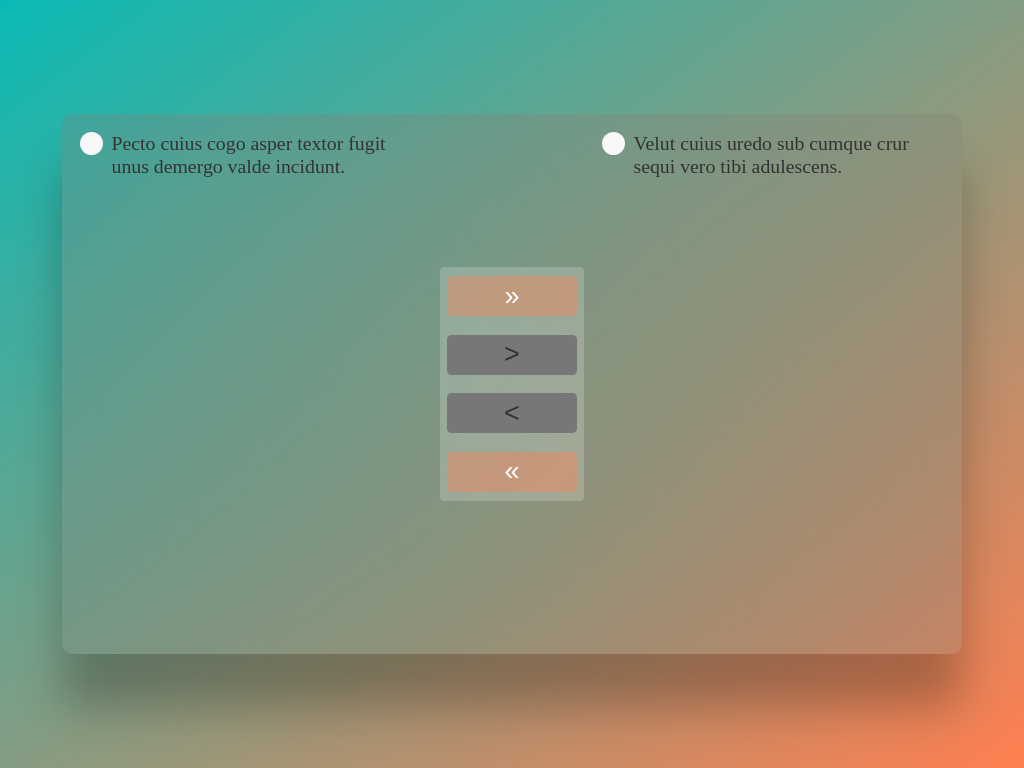
Test case: TransferList › makes sure that move right buttons gets disabled after moving all items to right side
Expected: the list with test id "list-left-container" is not empty, x1=80 y1=132 x2=422 y2=189
Click the button named "move all right" at (512, 296), box x1=447 y1=276 x2=577 y2=316
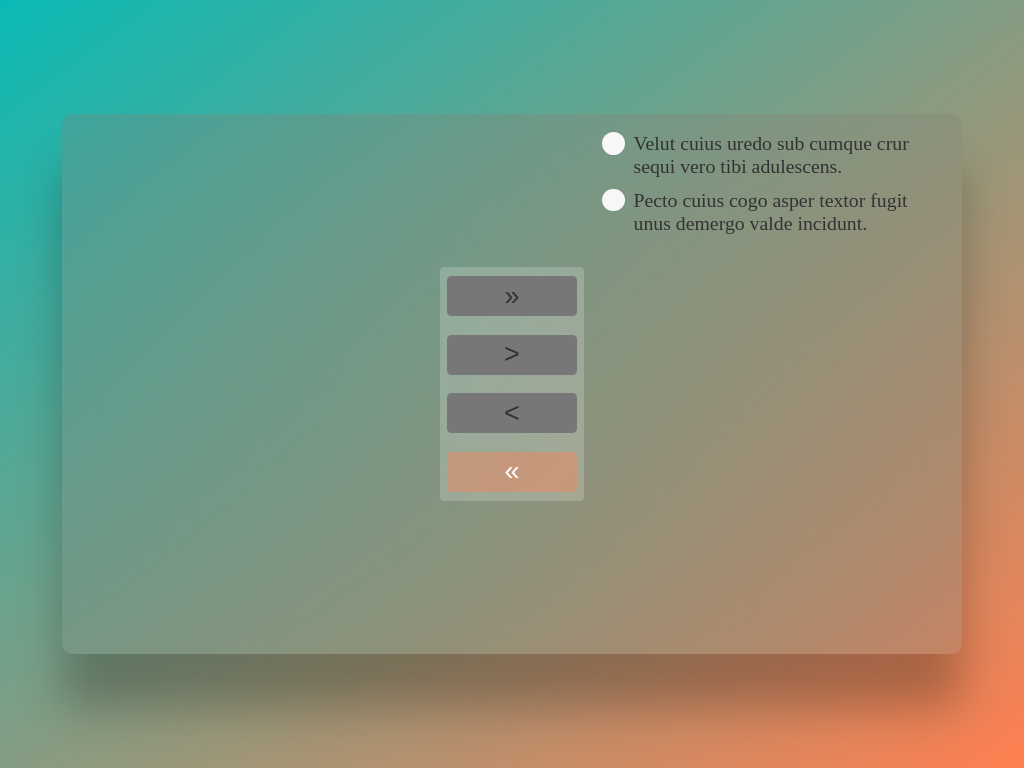
Expected: the button named "move selected right" is disabled, x1=447 y1=335 x2=577 y2=375
Expected: the button named "move all right" is disabled, x1=447 y1=276 x2=577 y2=316
